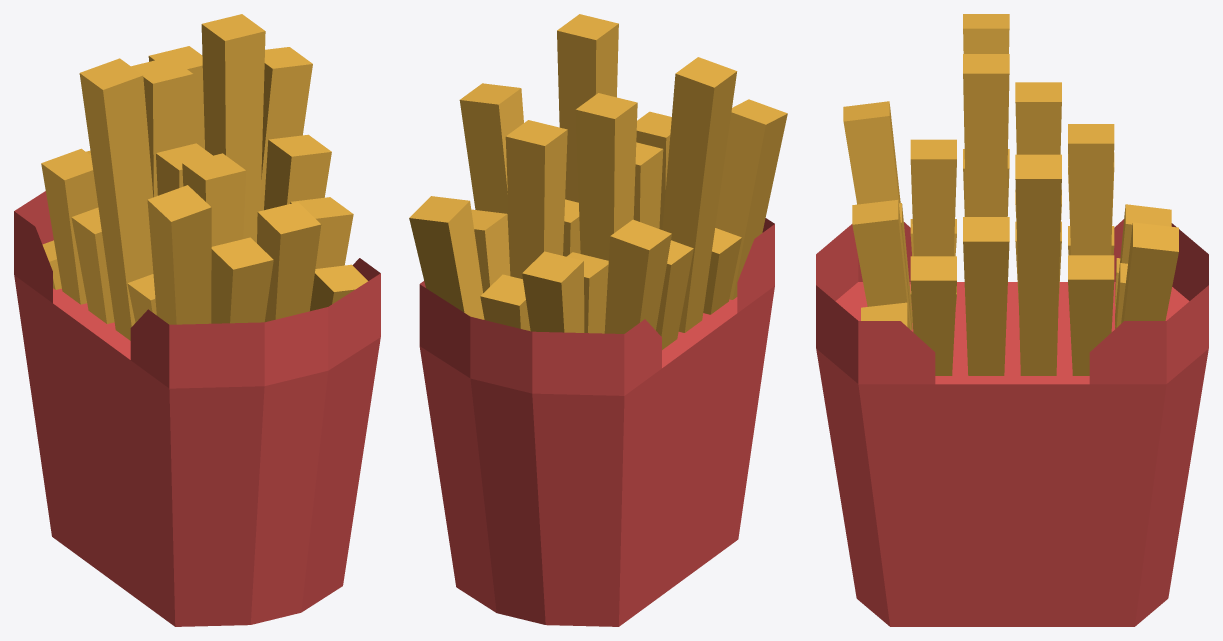
The model's file is fries.obj.
3 views of the same model, side by side, from view 1: azimuth 30°, elevation 25°; view 2: azimuth 150°, elevation 25°; view 3: azimuth 270°, elevation 25° (orthographic). The views are drawn at different scales.
Visible parts, largest first — view 1: fries; view 2: fries; view 3: fries.
Part boxes in pixels (x1,y1,x2,y2): fries: (14, 14, 380, 626); fries: (409, 14, 787, 626); fries: (816, 14, 1208, 626).
Size of the model in its own units: 0.183 by 0.3977 by 0.2653.
